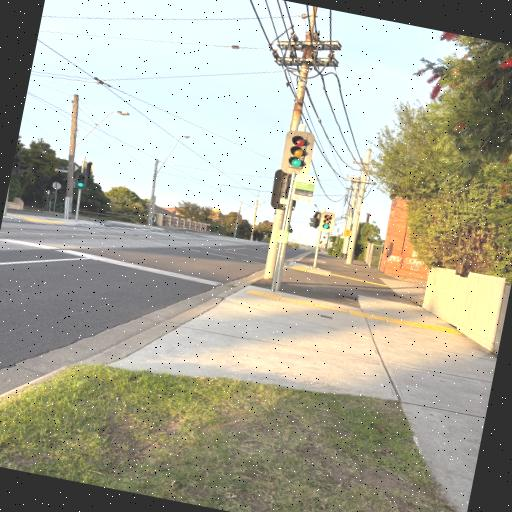Obstruction: (270, 173, 297, 292)
clear_path: (358, 296, 497, 511)
tgsi: (247, 289, 462, 335)
